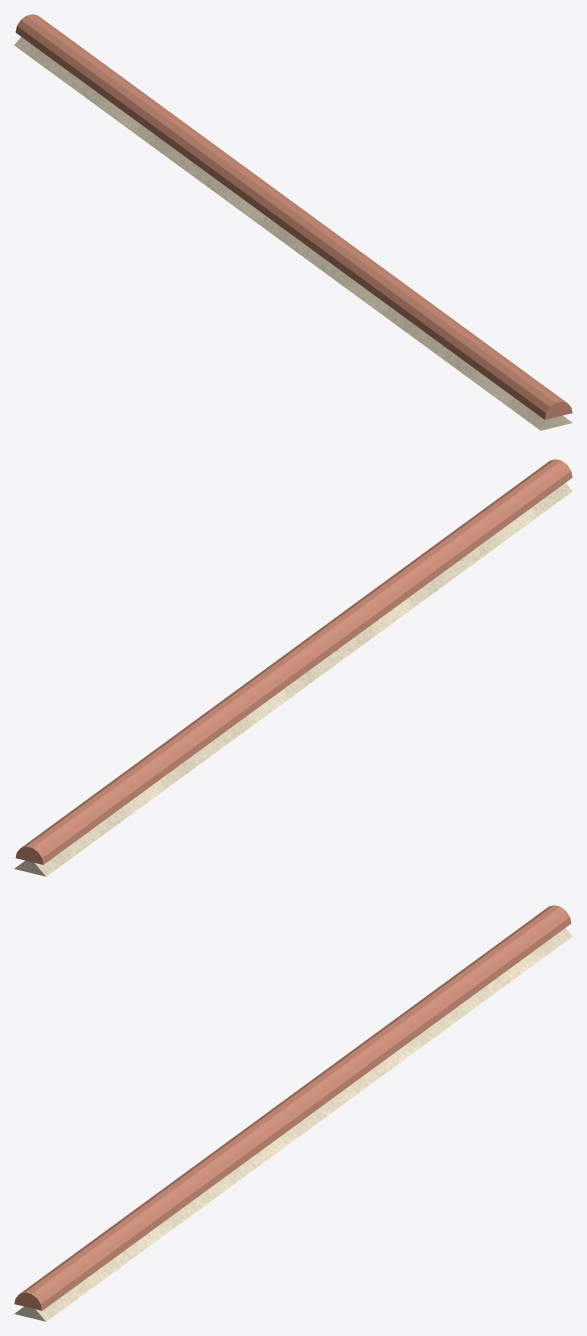
Rendered from gridge.glb.
3 renders of one model, top to bottom at view 1: azimuth 30°, elevation 25°; view 2: azimuth 150°, elevation 25°; view 3: azimuth 330°, elevation 25°, orthographic.
Parts seen in each view (by area): view 1: gridge_ridge, gridge_render; view 2: gridge_ridge, gridge_render; view 3: gridge_ridge, gridge_render.
Part boxes in pixels (x1,y1,x2,y2): gridge_ridge: (15, 14, 572, 419); gridge_render: (14, 37, 572, 430); gridge_ridge: (15, 459, 572, 864); gridge_render: (14, 483, 572, 876); gridge_ridge: (14, 905, 571, 1310); gridge_render: (14, 928, 572, 1321).
Bounding box in the file's own units: 0.3 × 0.2308 × 8.52.
2 materials, 1 textured.
